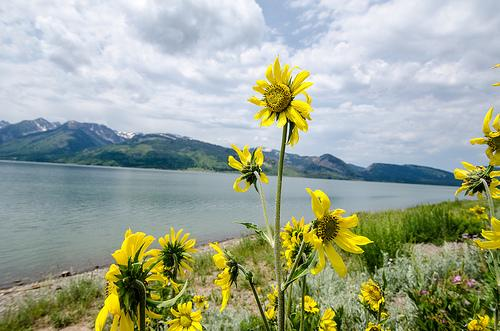sunflower: (98, 229, 161, 331), (299, 185, 370, 273), (253, 63, 314, 138), (225, 140, 269, 191), (210, 240, 237, 307), (452, 161, 500, 196), (473, 107, 500, 163), (167, 301, 208, 331), (472, 215, 500, 248), (160, 226, 194, 249)
